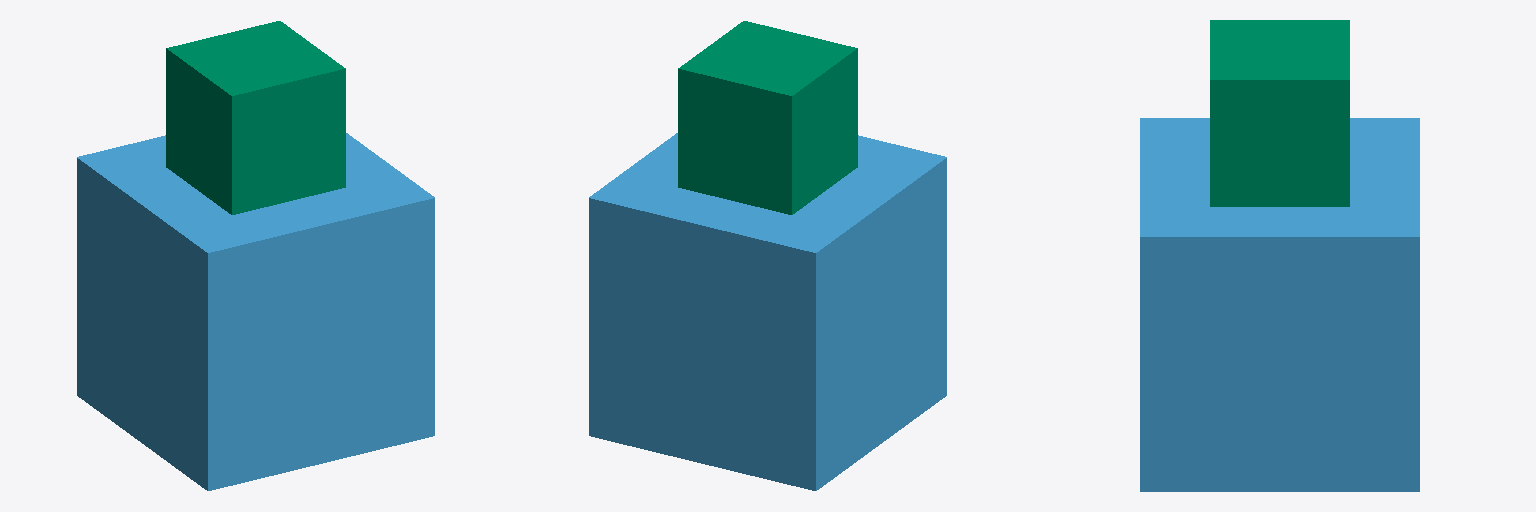
The robot description file, URDF, robot "two_link_robot":
<?xml version="1.0"?>
<!-- Robot consists of two links, connected by a revolute joint -->
<robot name="two_link_robot">
    <!-- Links -->
    <link name="world">
        <!-- This is a dummy link to attach to the 'world' frame -->
    </link>
    <link name="link_1">
        <!-- Link 1: Big cube -->
        <visual>
            <geometry>
                <box size="0.5 0.5 0.5" />
            </geometry>
        </visual>
        <inertial>
            <mass value="1" />
            <inertia ixx="0.041667" ixy="0.0" ixz="0.0" 
                            iyy="0.041667" iyz="0.0" 
                                izz="0.041667" />
        </inertial>
    </link>
    <link name="link_2">
        <!-- Link 2: Smaller cube -->
        <visual>
            <geometry>
                <box size="0.25 0.25 0.25" />
            </geometry>
        </visual>
        <inertial>
            <mass value="1" />
            <inertia ixx="0.0104167" ixy="0.0" ixz="0.0" 
                            iyy="0.0104167" iyz="0.0" 
                                izz="0.0104167" />
        </inertial>
    </link>
    <!-- Joints -->
    <joint name="dummy_fj" type="fixed" >
        <!-- A fixed joint of the dummy to the actual base -->
        <parent link="world" />
        <child link="link_1" />
    </joint>
    <joint name="l1_l2_rj" type="revolute">
        <!-- Revolute joint between two links -->
        <parent link="link_1"/>
        <child link="link_2"/>
        <origin xyz="0.0 0.0 0.375" rpy="0.0 0.0 0.0"/>
        <!-- Rotate about Z axis -->
        <axis xyz="0.0 0.0 1"/>
        <!-- The effort and velocity are not important here, lower and upper are in radians -->
        <limit lower="-3.14159" upper="3.14159" effort="1" velocity="1"/>
    </joint>
</robot>

--- Render facts (derived) ---
Views: 3 orthographic renders of the robot side by side, from view 1: azimuth 30°, elevation 25°; view 2: azimuth 150°, elevation 25°; view 3: azimuth 270°, elevation 25°.
Robot: two_link_robot — 3 links, 2 joints (1 revolute, 1 fixed); root link world; default pose: all joints at 0.
Visible links, largest first — view 1: link_1, link_2; view 2: link_1, link_2; view 3: link_1, link_2.
Boxes of the visible links, x1,y1,x2,y2 form: link_1: (77, 133, 434, 490); link_2: (166, 21, 345, 214); link_1: (589, 133, 946, 490); link_2: (678, 21, 857, 214); link_1: (1140, 118, 1419, 491); link_2: (1210, 20, 1349, 206).
Size in the robot's own frame: 0.5 by 0.5 by 0.75 metres.
Geometry: primitives only (box / cylinder / sphere), no mesh files.